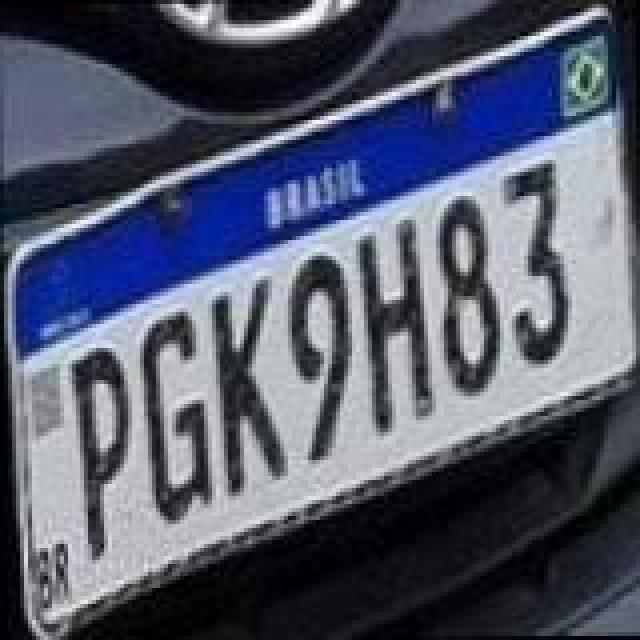3: (504, 158, 572, 370)
8: (436, 196, 504, 400)
9: (288, 252, 356, 468)
G: (138, 310, 214, 526)
H: (354, 214, 434, 438)
K: (212, 274, 292, 498)
P: (66, 342, 134, 562)
